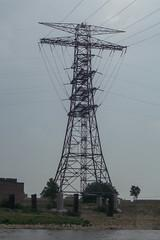power_tower: (30, 15, 130, 204)
